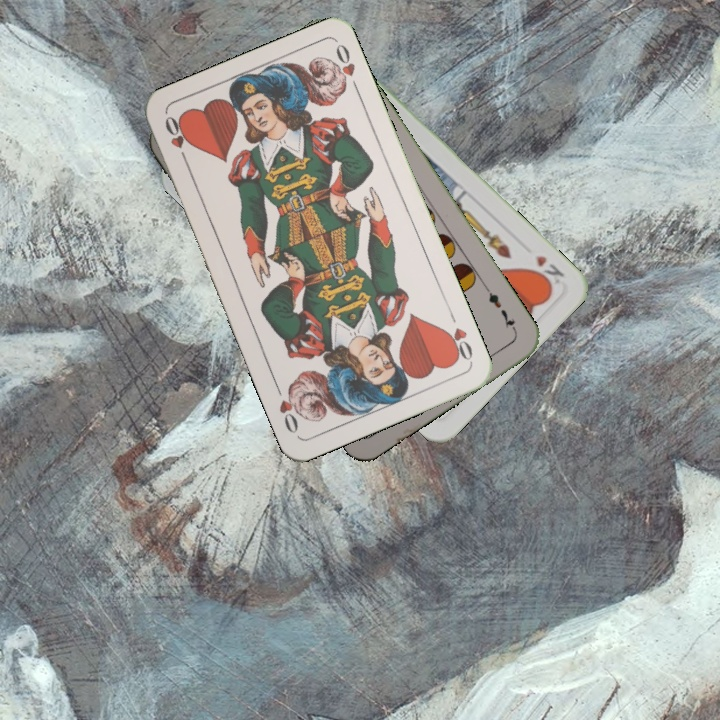E7: (481, 283, 519, 335)
HK: (528, 251, 567, 292)
HO: (440, 308, 475, 364), (160, 111, 191, 169)
